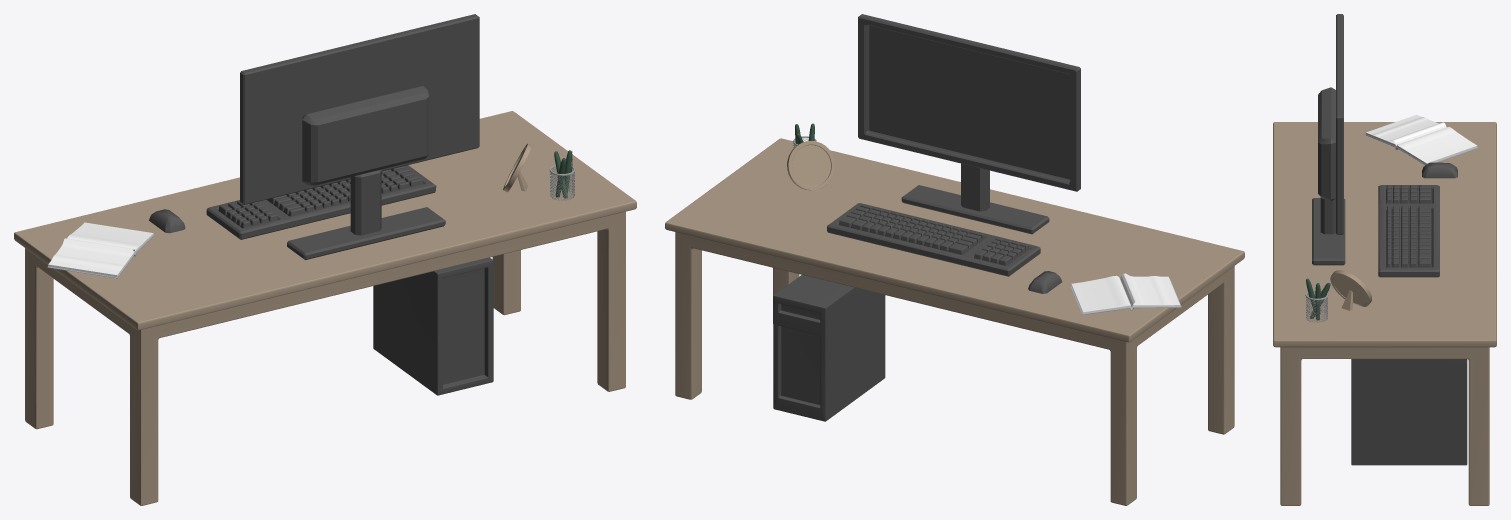
The model's file is sm_desk.fbx.
The picture shows the model from 3 angles, left to right: view 1: azimuth 30°, elevation 25°; view 2: azimuth 150°, elevation 25°; view 3: azimuth 270°, elevation 25°; orthographic projection. The views are drawn at different scales.
Parts seen in each view (by area): view 1: desk, polySurface351, computer, polySurface352, polySurface182, pCube17, polySurface356, polySurface354, pCube18, polySurface355; view 2: desk, polySurface351, computer, polySurface354, polySurface356, polySurface182, pCube17, polySurface165, pCube18, polySurface355; view 3: desk, computer, polySurface354, polySurface182, polySurface356, polySurface352, polySurface351, pCube17, polySurface165, polySurface355, pCube18, polySurface357 (+2 smaller).
Part boxes in pixels (x1,y1,x2,y2): desk: (14,111,636,505); polySurface351: (240,14,479,204); computer: (373,257,493,395); polySurface352: (302,86,429,185); polySurface182: (49,222,152,274); pCube17: (287,207,445,259); polySurface356: (206,165,436,239); polySurface354: (267,166,423,216); pCube18: (350,169,381,235); polySurface355: (218,200,277,228); desk: (665,138,1244,505); polySurface351: (858,14,1080,191); computer: (773,275,885,421); polySurface354: (838,204,985,254); polySurface356: (827,203,1040,276); polySurface182: (1072,273,1179,312); pCube17: (901,185,1049,234); polySurface165: (787,140,835,190); pCube18: (961,163,989,211); polySurface355: (974,237,1029,265); desk: (1273,122,1496,505); computer: (1351,359,1467,465); polySurface354: (1386,205,1431,267); polySurface182: (1366,115,1476,163); polySurface356: (1378,185,1439,277); polySurface352: (1318,87,1335,201); polySurface351: (1336,14,1343,234); pCube17: (1312,198,1345,265); polySurface165: (1330,270,1371,306); polySurface355: (1386,185,1432,203); pCube18: (1320,197,1335,234); polySurface357: (1422,162,1457,178).
Size of the model in its own units: 540 by 382 by 228.
